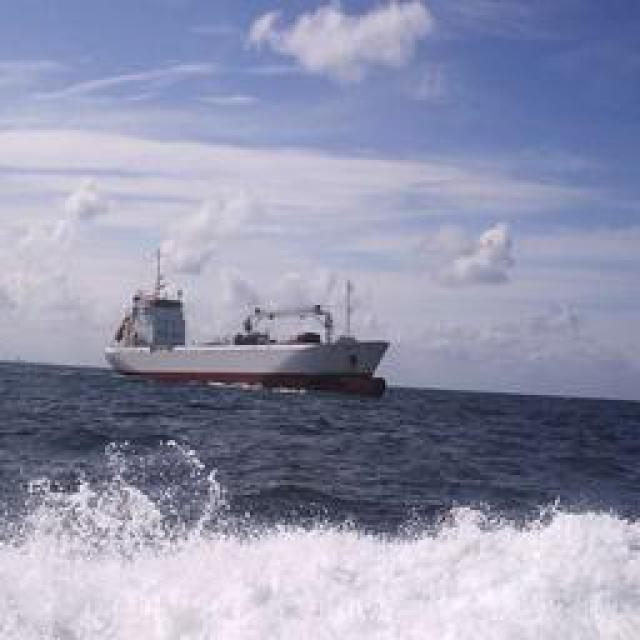Ship: (109, 269, 392, 392)
